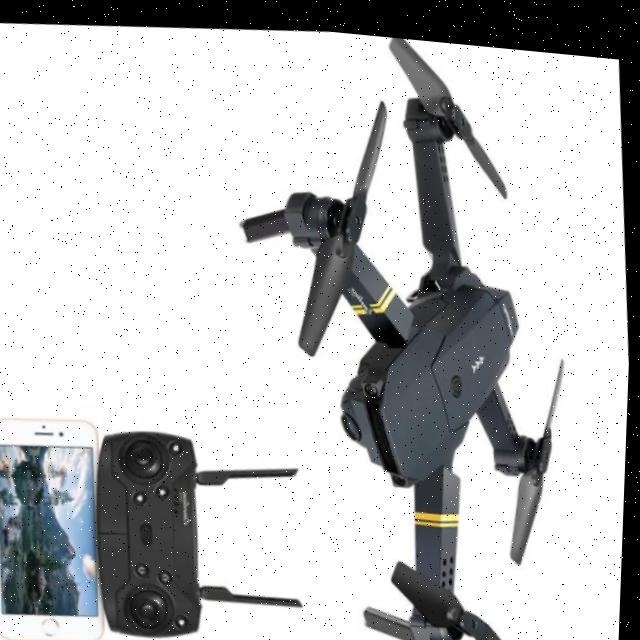drones: (173, 15, 635, 640)
